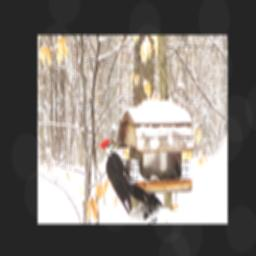Woodpecker: (98, 139, 157, 215)
